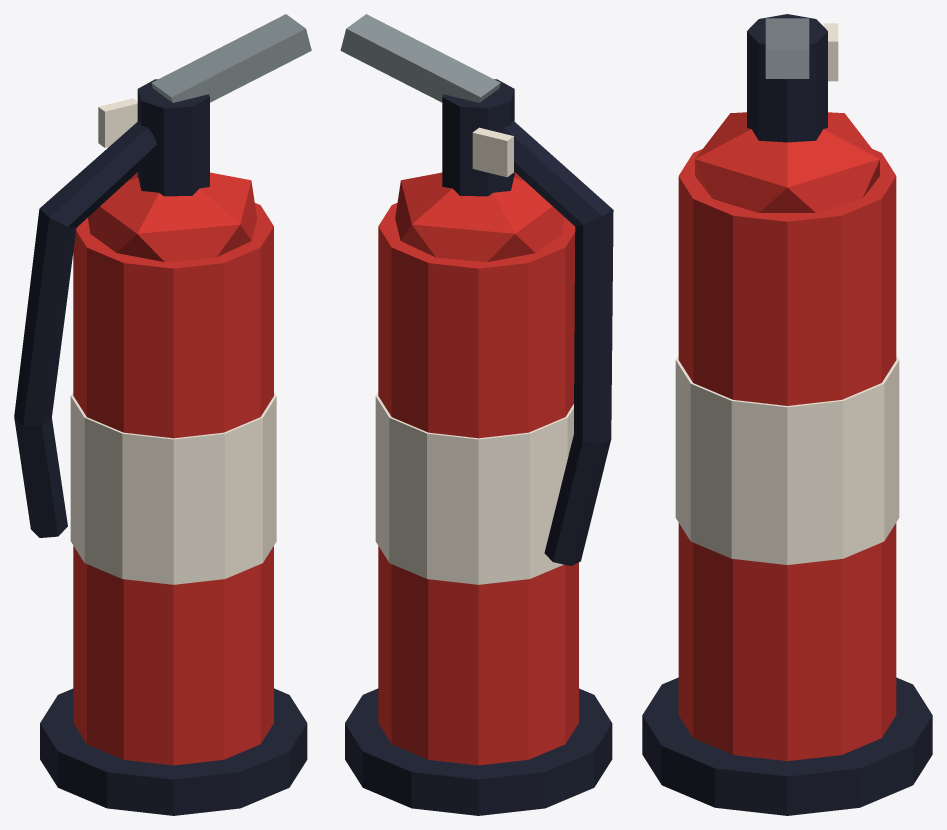
File: sm_env_depot_extinguisher.glb
The picture shows the model from 3 angles, left to right: view 1: azimuth 30°, elevation 25°; view 2: azimuth 150°, elevation 25°; view 3: azimuth 270°, elevation 25°; orthographic projection. The views are drawn at different scales.
Parts seen in each view (by area): view 1: ExtBody, ExtLabel, ExtHose, Stand, ExtDome, ExtValve, ExtLever, ExtGauge; view 2: ExtBody, ExtLabel, ExtHose, Stand, ExtDome, ExtLever, ExtValve, ExtGauge; view 3: ExtBody, ExtLabel, Stand, ExtDome, ExtValve, ExtLever, ExtGauge.
Part boxes in pixels (bbox=[...]): ExtBody: bbox=[73, 203, 273, 765]; ExtLabel: bbox=[70, 392, 276, 584]; ExtHose: bbox=[14, 121, 157, 537]; Stand: bbox=[40, 688, 307, 815]; ExtDome: bbox=[88, 172, 256, 261]; ExtValve: bbox=[137, 79, 209, 196]; ExtLever: bbox=[151, 14, 311, 102]; ExtGauge: bbox=[98, 98, 137, 147]; ExtBody: bbox=[378, 203, 578, 765]; ExtLabel: bbox=[375, 392, 573, 584]; ExtHose: bbox=[500, 121, 613, 565]; Stand: bbox=[345, 688, 612, 815]; ExtDome: bbox=[395, 172, 564, 261]; ExtLever: bbox=[340, 14, 500, 102]; ExtValve: bbox=[442, 79, 514, 196]; ExtGauge: bbox=[472, 127, 513, 177]; ExtBody: bbox=[678, 149, 896, 760]; ExtLabel: bbox=[675, 356, 899, 564]; Stand: bbox=[642, 677, 932, 815]; ExtDome: bbox=[695, 112, 879, 212]; ExtValve: bbox=[747, 14, 827, 142]; ExtLever: bbox=[765, 18, 809, 78]; ExtGauge: bbox=[823, 23, 838, 81].
Size of the model in its own units: 0.233 by 0.5845 by 0.2.
